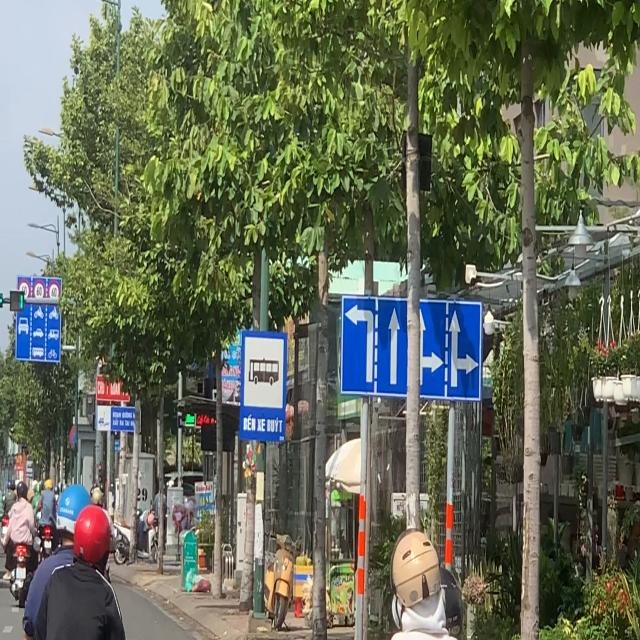Ben xe buyt: (238, 327, 288, 447)
Toc do toi da: (18, 279, 30, 303), (33, 280, 45, 303), (48, 281, 60, 304)
